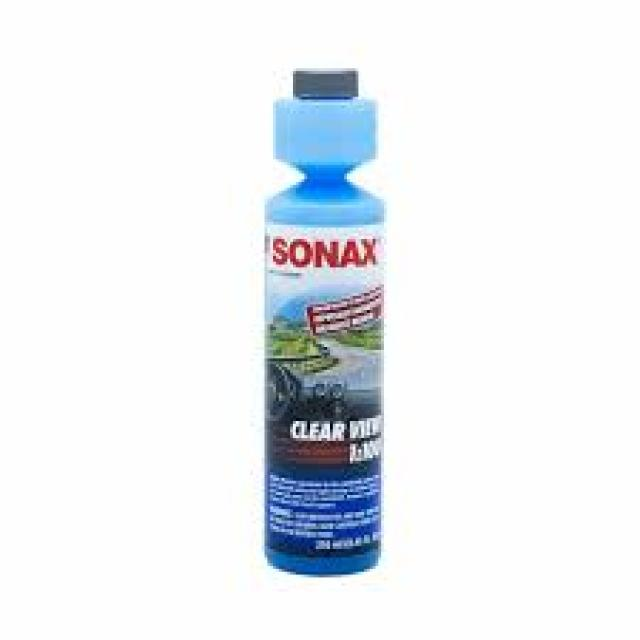winwinshield_washer: (260, 63, 392, 582)
